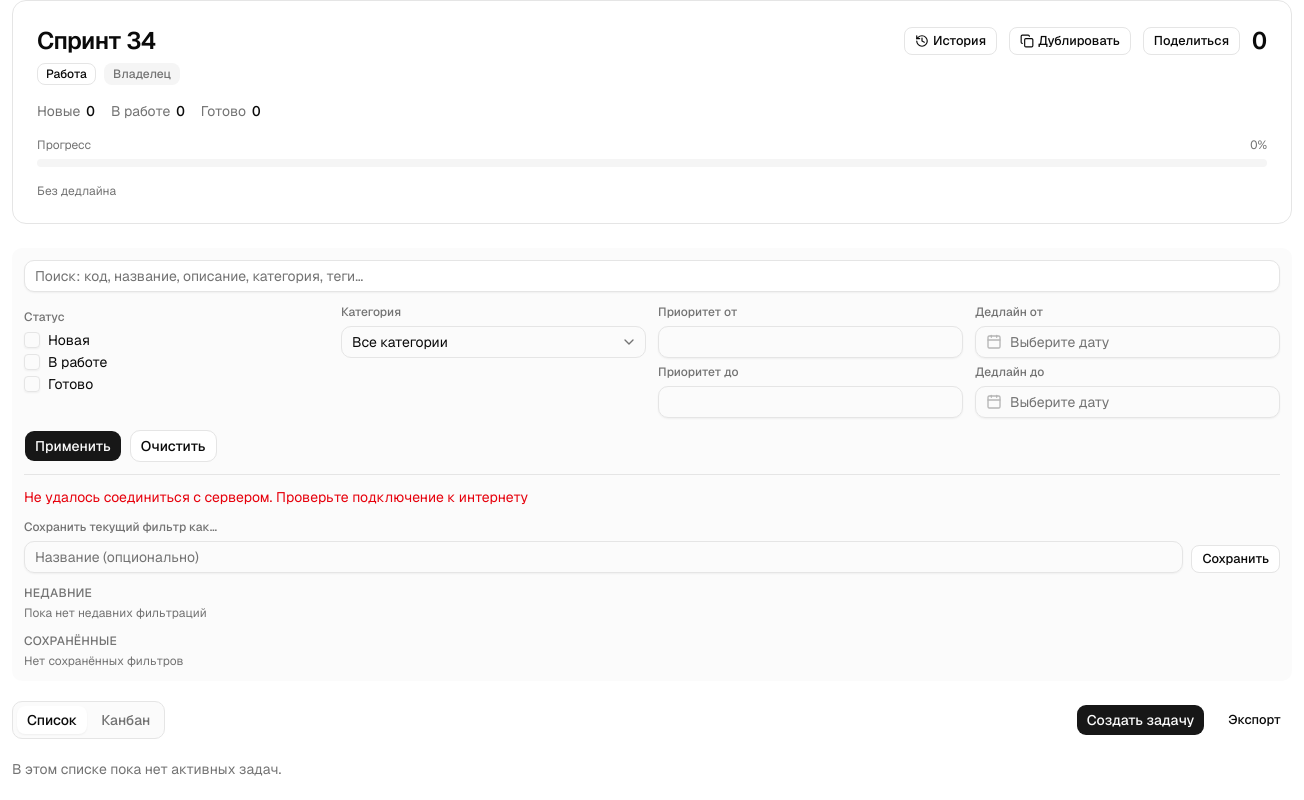
Test: ListDetail › shows export actions for the current list
Click the button with test id "list-export-trigger". click: click(1255, 720)
box: [1217,706,1292,734]
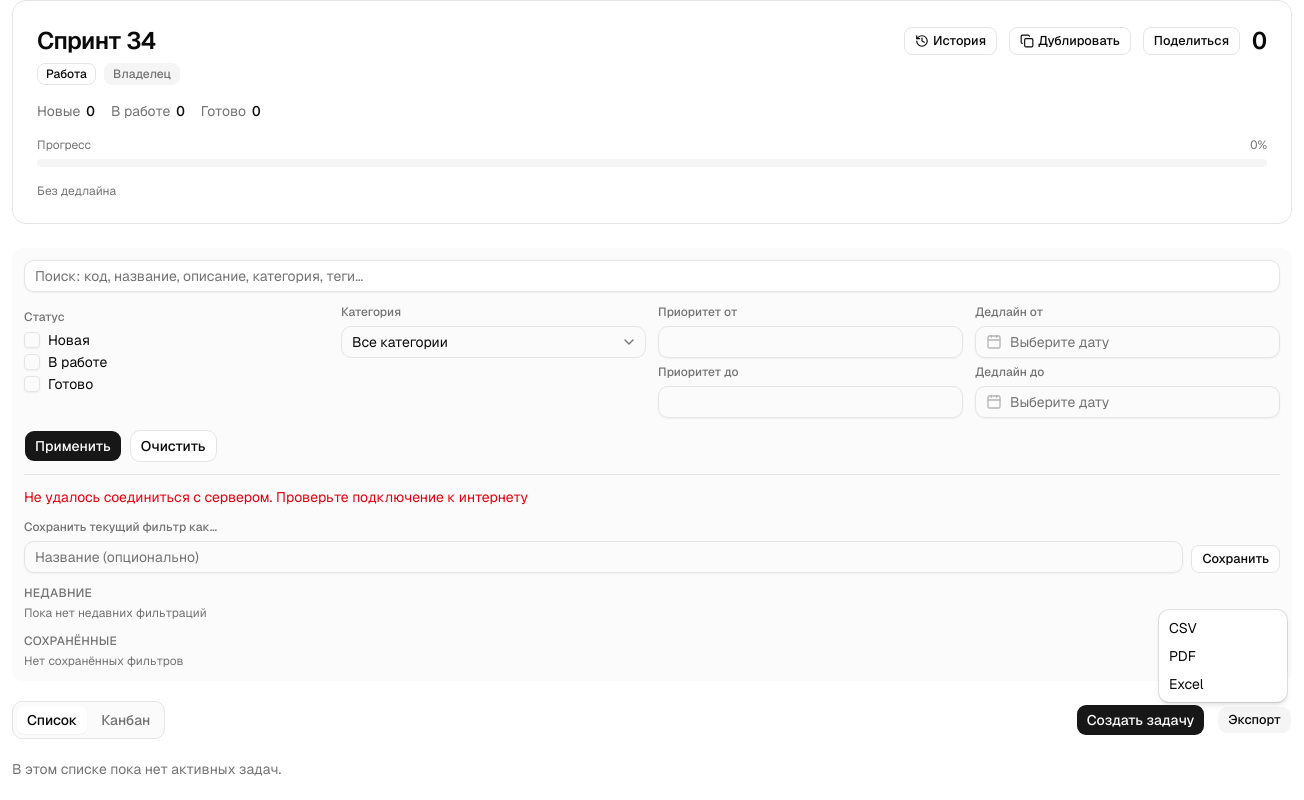
Now the menu item with test id "list-export-csv" is shown, box [1169,619,1197,637]
Now the menu item with test id "list-export-pdf" is shown, box [1169,647,1196,665]
